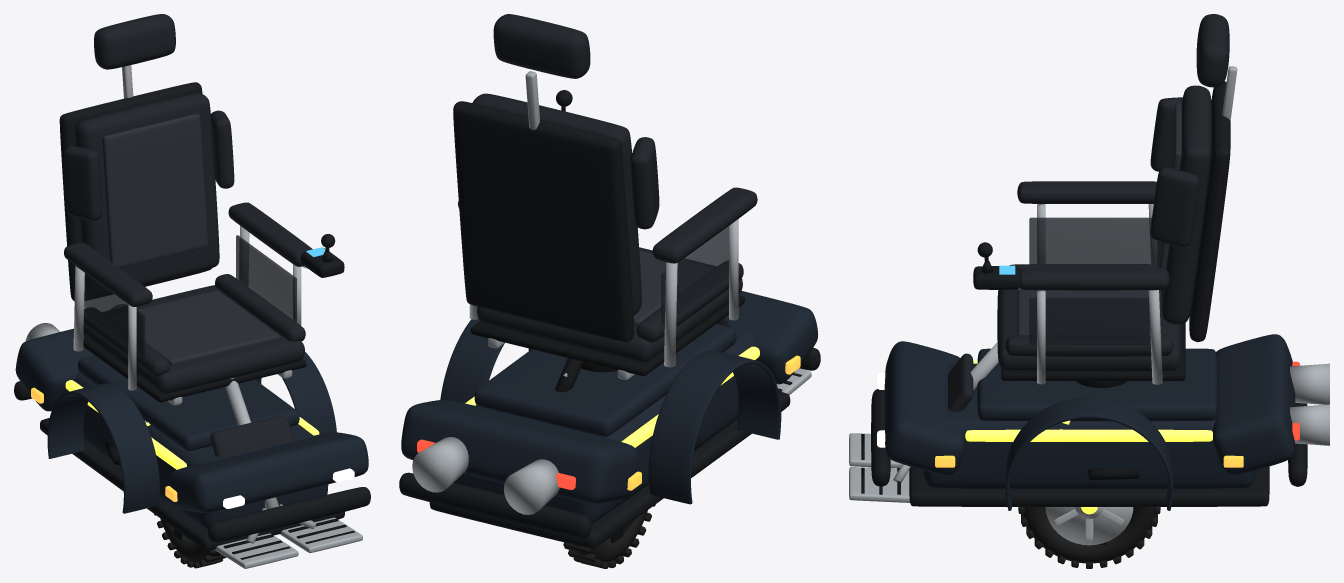
File: power_chair.glb
The picture shows the model from 3 angles, left to right: view 1: azimuth 30°, elevation 25°; view 2: azimuth 150°, elevation 25°; view 3: azimuth 270°, elevation 25°; orthographic projection. The views are drawn at different scales.
Visible parts, largest first — view 1: back_insert, nose, back_cushion, fender, insert, deck, cushion, core, tail, bumper, headrest, back_shell (+22 smaller); view 2: back_shell, tail, deck, fender, core, headrest, nose, skirt, cushion, bumper.001, back_cushion, seat_plate (+14 smaller); view 3: core, tail, deck, nose, skirt, guard, back_cushion, insert, guard.001, back_shell, cushion, fender.001 (+21 smaller).
Boxes of the visible parts, x1,y1,x2,y2 form: back_insert: [102, 113, 207, 268]; nose: [169, 432, 368, 512]; back_cushion: [75, 93, 219, 294]; fender: [47, 383, 159, 513]; insert: [110, 290, 279, 365]; deck: [77, 355, 299, 450]; cushion: [83, 285, 304, 393]; core: [73, 372, 328, 529]; tail: [15, 328, 94, 411]; bumper: [208, 487, 370, 542]; headrest: [94, 14, 175, 69]; back_shell: [59, 82, 211, 301]; back_shell: [453, 101, 634, 342]; tail: [401, 400, 637, 503]; deck: [474, 323, 736, 436]; fender: [648, 350, 781, 504]; core: [454, 323, 753, 523]; headrest: [493, 14, 590, 78]; nose: [725, 291, 818, 384]; skirt: [429, 391, 790, 548]; cushion: [477, 247, 742, 362]; bumper.001: [399, 472, 591, 538]; back_cushion: [472, 93, 641, 314]; seat_plate: [470, 295, 744, 376]; core: [922, 363, 1255, 488]; tail: [1212, 334, 1295, 475]; deck: [977, 348, 1217, 421]; nose: [884, 341, 964, 475]; skirt: [909, 466, 1269, 506]; guard: [1029, 217, 1157, 264]; back_cushion: [1161, 85, 1211, 324]; insert: [1017, 289, 1149, 335]; guard.001: [1029, 297, 1150, 344]; back_shell: [1189, 81, 1230, 342]; cushion: [997, 289, 1181, 371]; fender.001: [1005, 397, 1173, 510].
Bounding box in the file's own units: 0.6599 × 1.47 × 1.2.
